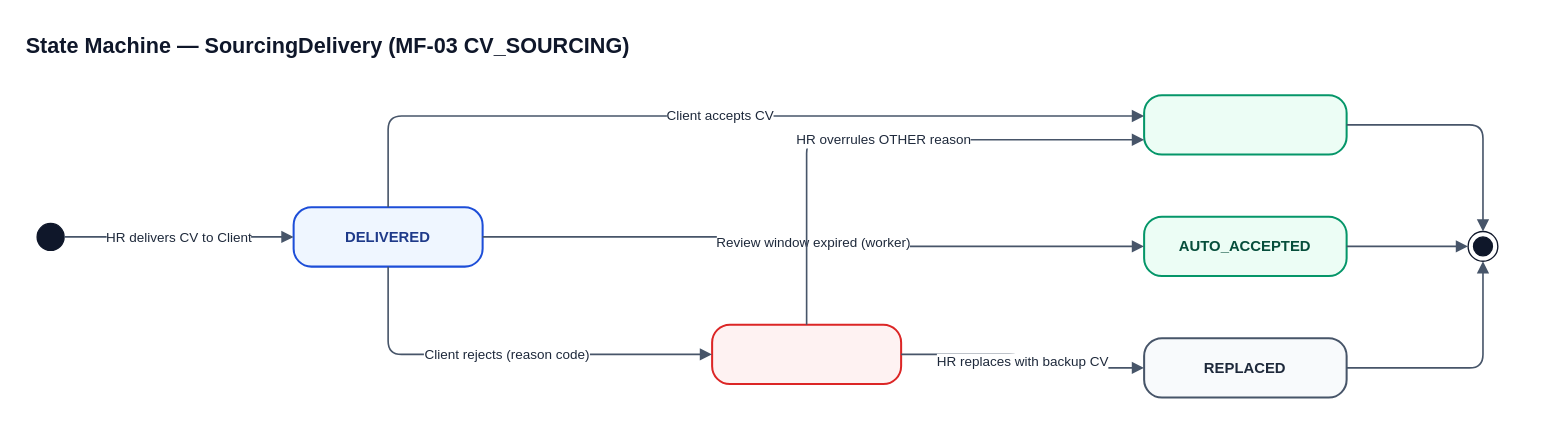
Image size: 1558x421. Some labels were removed from this diagram. Each missing label, with the centre of its shape:
"ACCEPTED" goes at point 1245,124.
"REJECTED" goes at point 806,353.
